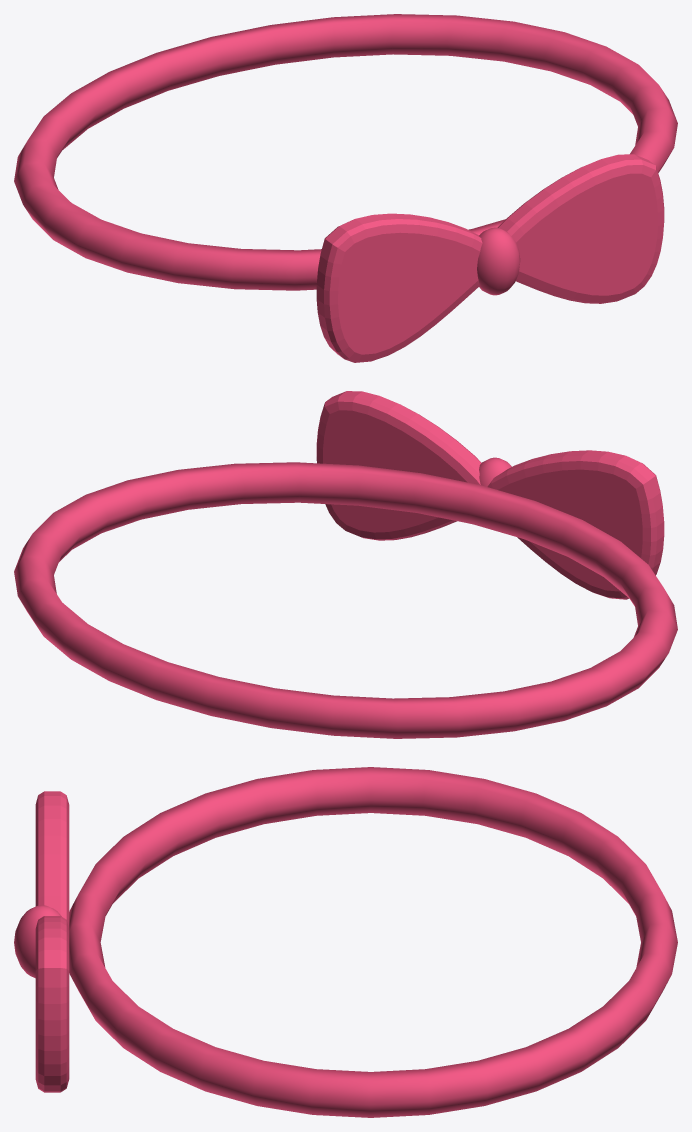
The model's file is bow_neck.glb.
3 views of the same model, one above another, from view 1: azimuth 30°, elevation 25°; view 2: azimuth 150°, elevation 25°; view 3: azimuth 270°, elevation 25° (orthographic). The views are drawn at different scales.
Visible parts, largest first — view 1: Moño elegante; view 2: Moño elegante; view 3: Moño elegante.
Part boxes in pixels (left/top/right/bottom): Moño elegante: left=14, top=14, right=677, bottom=362; Moño elegante: left=14, top=391, right=677, bottom=738; Moño elegante: left=14, top=767, right=677, bottom=1117.
Bounding box in the file's own units: 0.532 × 0.1174 × 0.4601.
